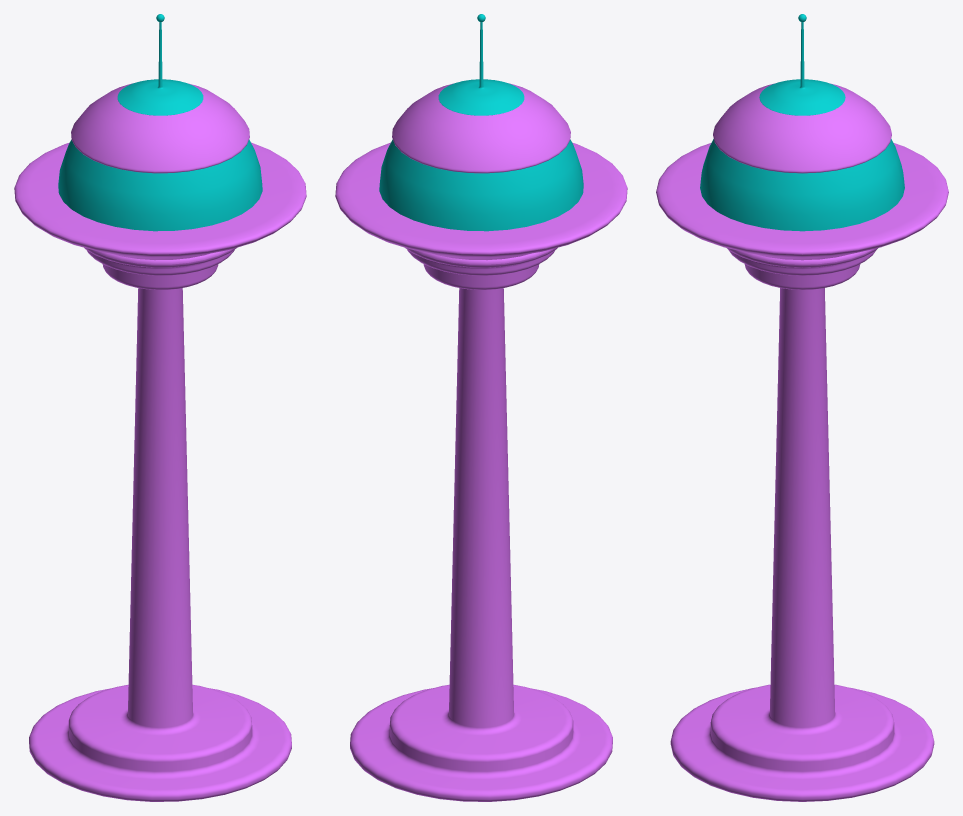
The model's file is Buildings-1.fbx.
3 views of the same model, side by side, from view 1: azimuth 30°, elevation 25°; view 2: azimuth 150°, elevation 25°; view 3: azimuth 270°, elevation 25° (orthographic).
Parts seen in each view (by area): view 1: Buildings-1; view 2: Buildings-1; view 3: Buildings-1.
Boxes of the visible parts, left/top/right/bottom form: Buildings-1: left=14, top=14, right=306, bottom=801; Buildings-1: left=335, top=14, right=627, bottom=801; Buildings-1: left=656, top=14, right=948, bottom=801.
Bounding box in the file's own units: 439 × 1215 × 439.
